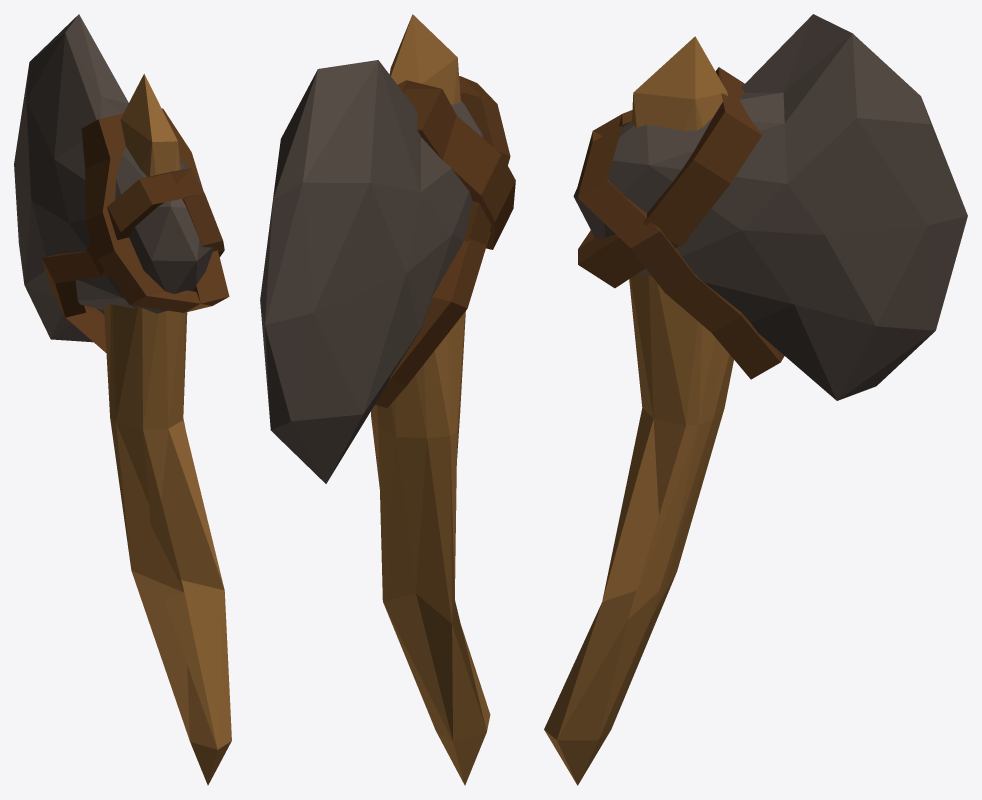
File: stone_axe.fbx
The picture shows the model from 3 angles, left to right: view 1: azimuth 30°, elevation 25°; view 2: azimuth 150°, elevation 25°; view 3: azimuth 270°, elevation 25°; orthographic projection. The views are drawn at different scales.
Parts seen in each view (by area): view 1: Icosphere, Cube.004, Cube, Cube.001; view 2: Cube.004, Icosphere, Cube.001, Cube; view 3: Cube.004, Icosphere, Cube.001, Cube.
Boxes of the visible parts, x1,y1,x2,y2 form: Icosphere: (104, 74, 231, 785); Cube.004: (14, 14, 213, 342); Cube: (81, 108, 229, 312); Cube.001: (42, 168, 224, 352); Cube.004: (260, 60, 482, 483); Icosphere: (371, 14, 490, 785); Cube.001: (375, 76, 510, 407); Cube: (398, 80, 515, 249); Cube.004: (573, 14, 967, 400); Icosphere: (544, 36, 733, 785); Cube.001: (577, 110, 784, 379); Cube: (578, 67, 762, 288).
Size of the model in its own units: 346 by 1909 by 975.
